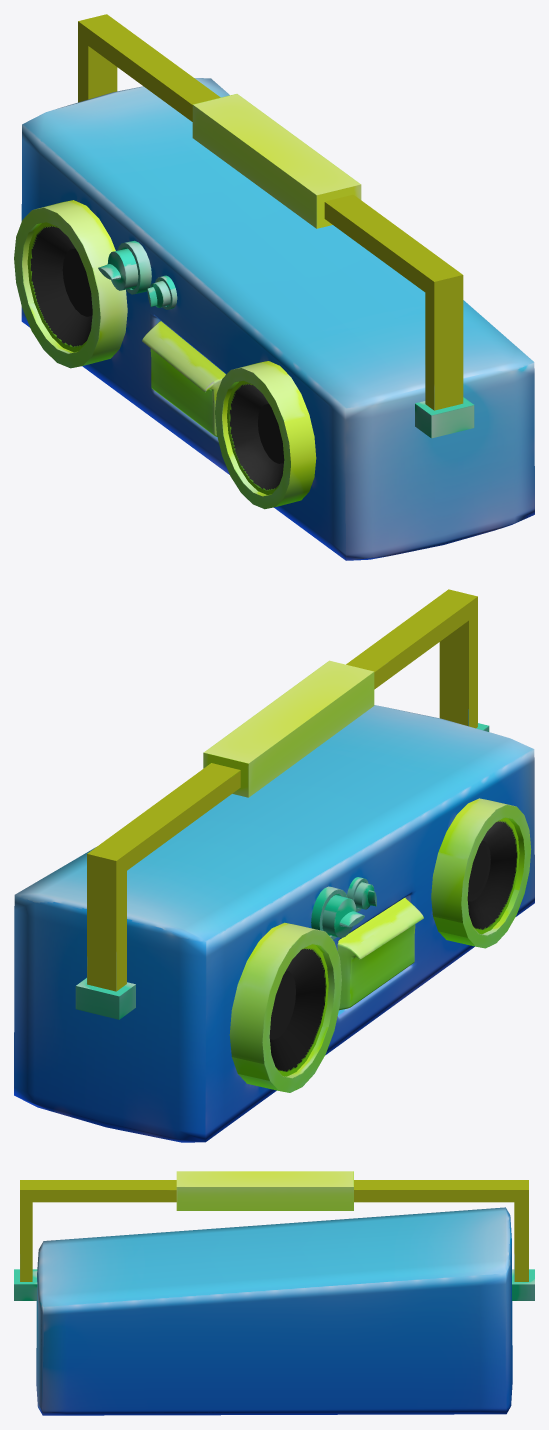
Rendered from Boombox.glb.
The picture shows the model from 3 angles, top to bottom: view 1: azimuth 30°, elevation 25°; view 2: azimuth 150°, elevation 25°; view 3: azimuth 270°, elevation 25°; orthographic projection. The views are drawn at different scales.
Parts seen in each view (by area): view 1: Boom_box; view 2: Boom_box; view 3: Boom_box.
Boxes of the visible parts, x1=… form: Boom_box: x1=14, y1=14, x2=534, y2=560; Boom_box: x1=14, y1=589, x2=534, y2=1142; Boom_box: x1=14, y1=1171, x2=534, y2=1415.
Bounding box in the file's own units: 22.36 × 27.62 × 63.49.
Materials: 1 (1 with a texture image).
